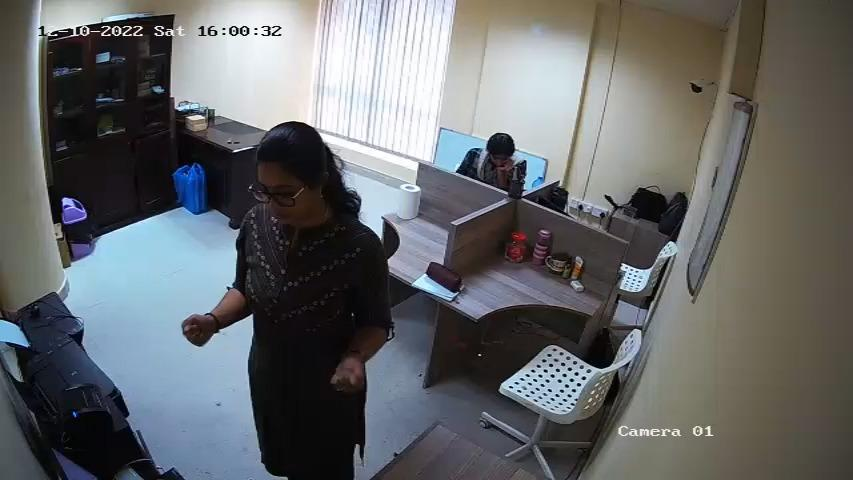no_gloves: (177, 311, 218, 348)
